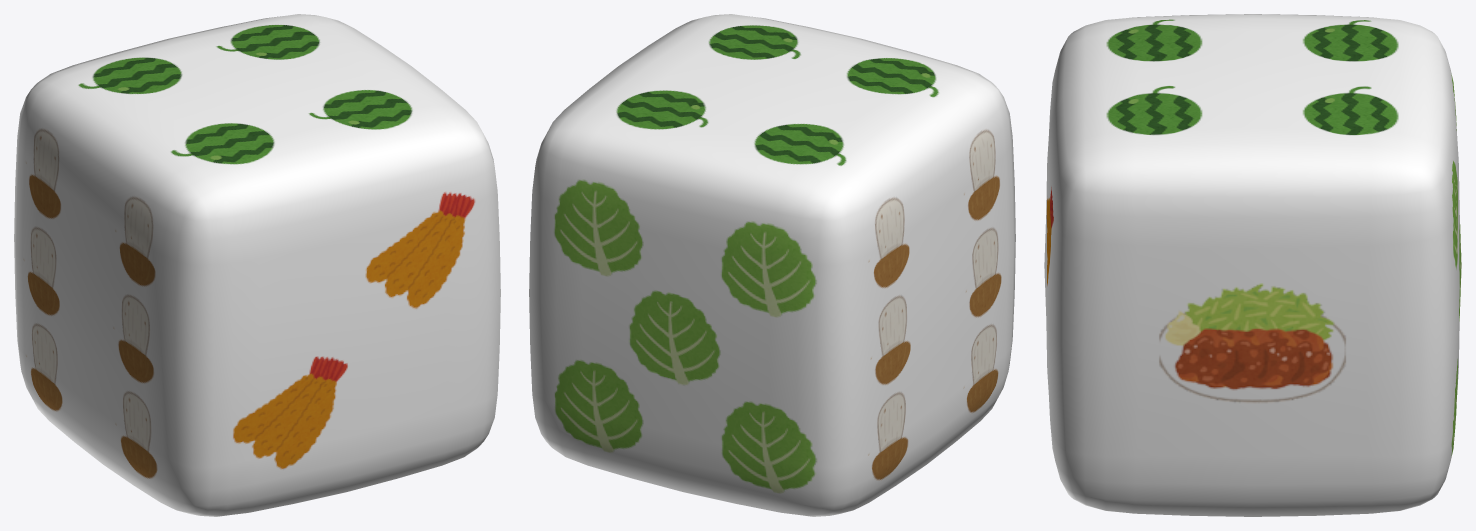
The model's file is saikoro.fbx.
3 renders of one model, left to right at view 1: azimuth 30°, elevation 25°; view 2: azimuth 150°, elevation 25°; view 3: azimuth 270°, elevation 25°, orthographic. The views are drawn at different scales.
Visible parts, largest first — view 1: pCube1; view 2: pCube1; view 3: pCube1.
Boxes of the visible parts, bbox=[...] form: pCube1: bbox=[14, 14, 500, 516]; pCube1: bbox=[529, 14, 1015, 516]; pCube1: bbox=[1044, 14, 1461, 516].
Bounding box in the file's own units: 0.9017 × 0.9017 × 0.9017.
Materials: 1 (1 with a texture image).
